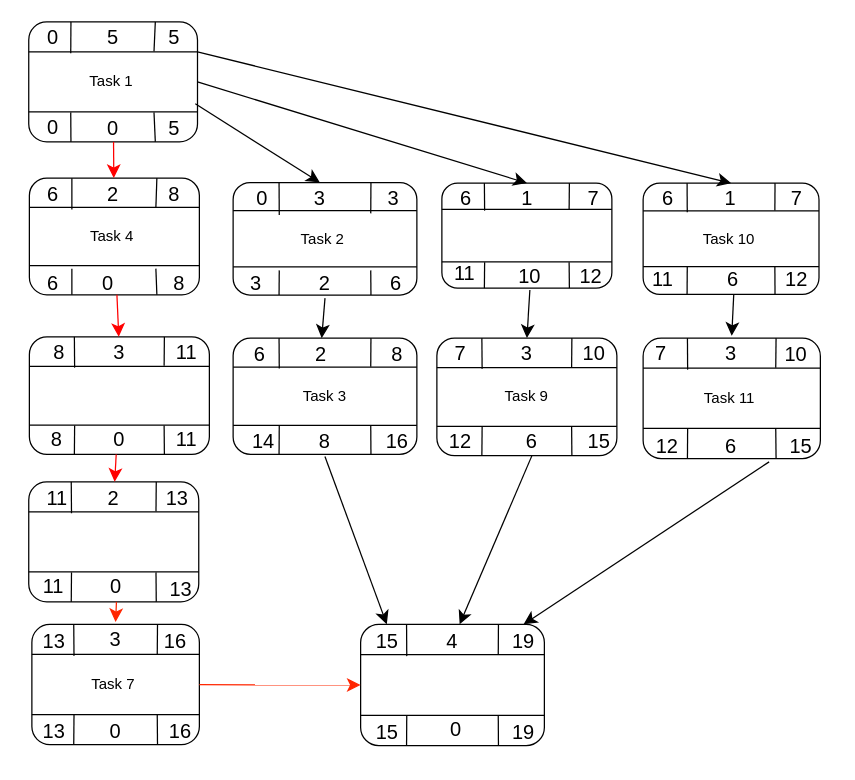
The diagram is 855 pixels wide and 780 high, and some of its shapes have lost their labels. Each missing label, with the box of its shape:
Task 12: (359, 623, 544, 746)
Task 5: (28, 336, 209, 454)
Task 6: (28, 481, 199, 602)
Task 8: (441, 182, 612, 288)
